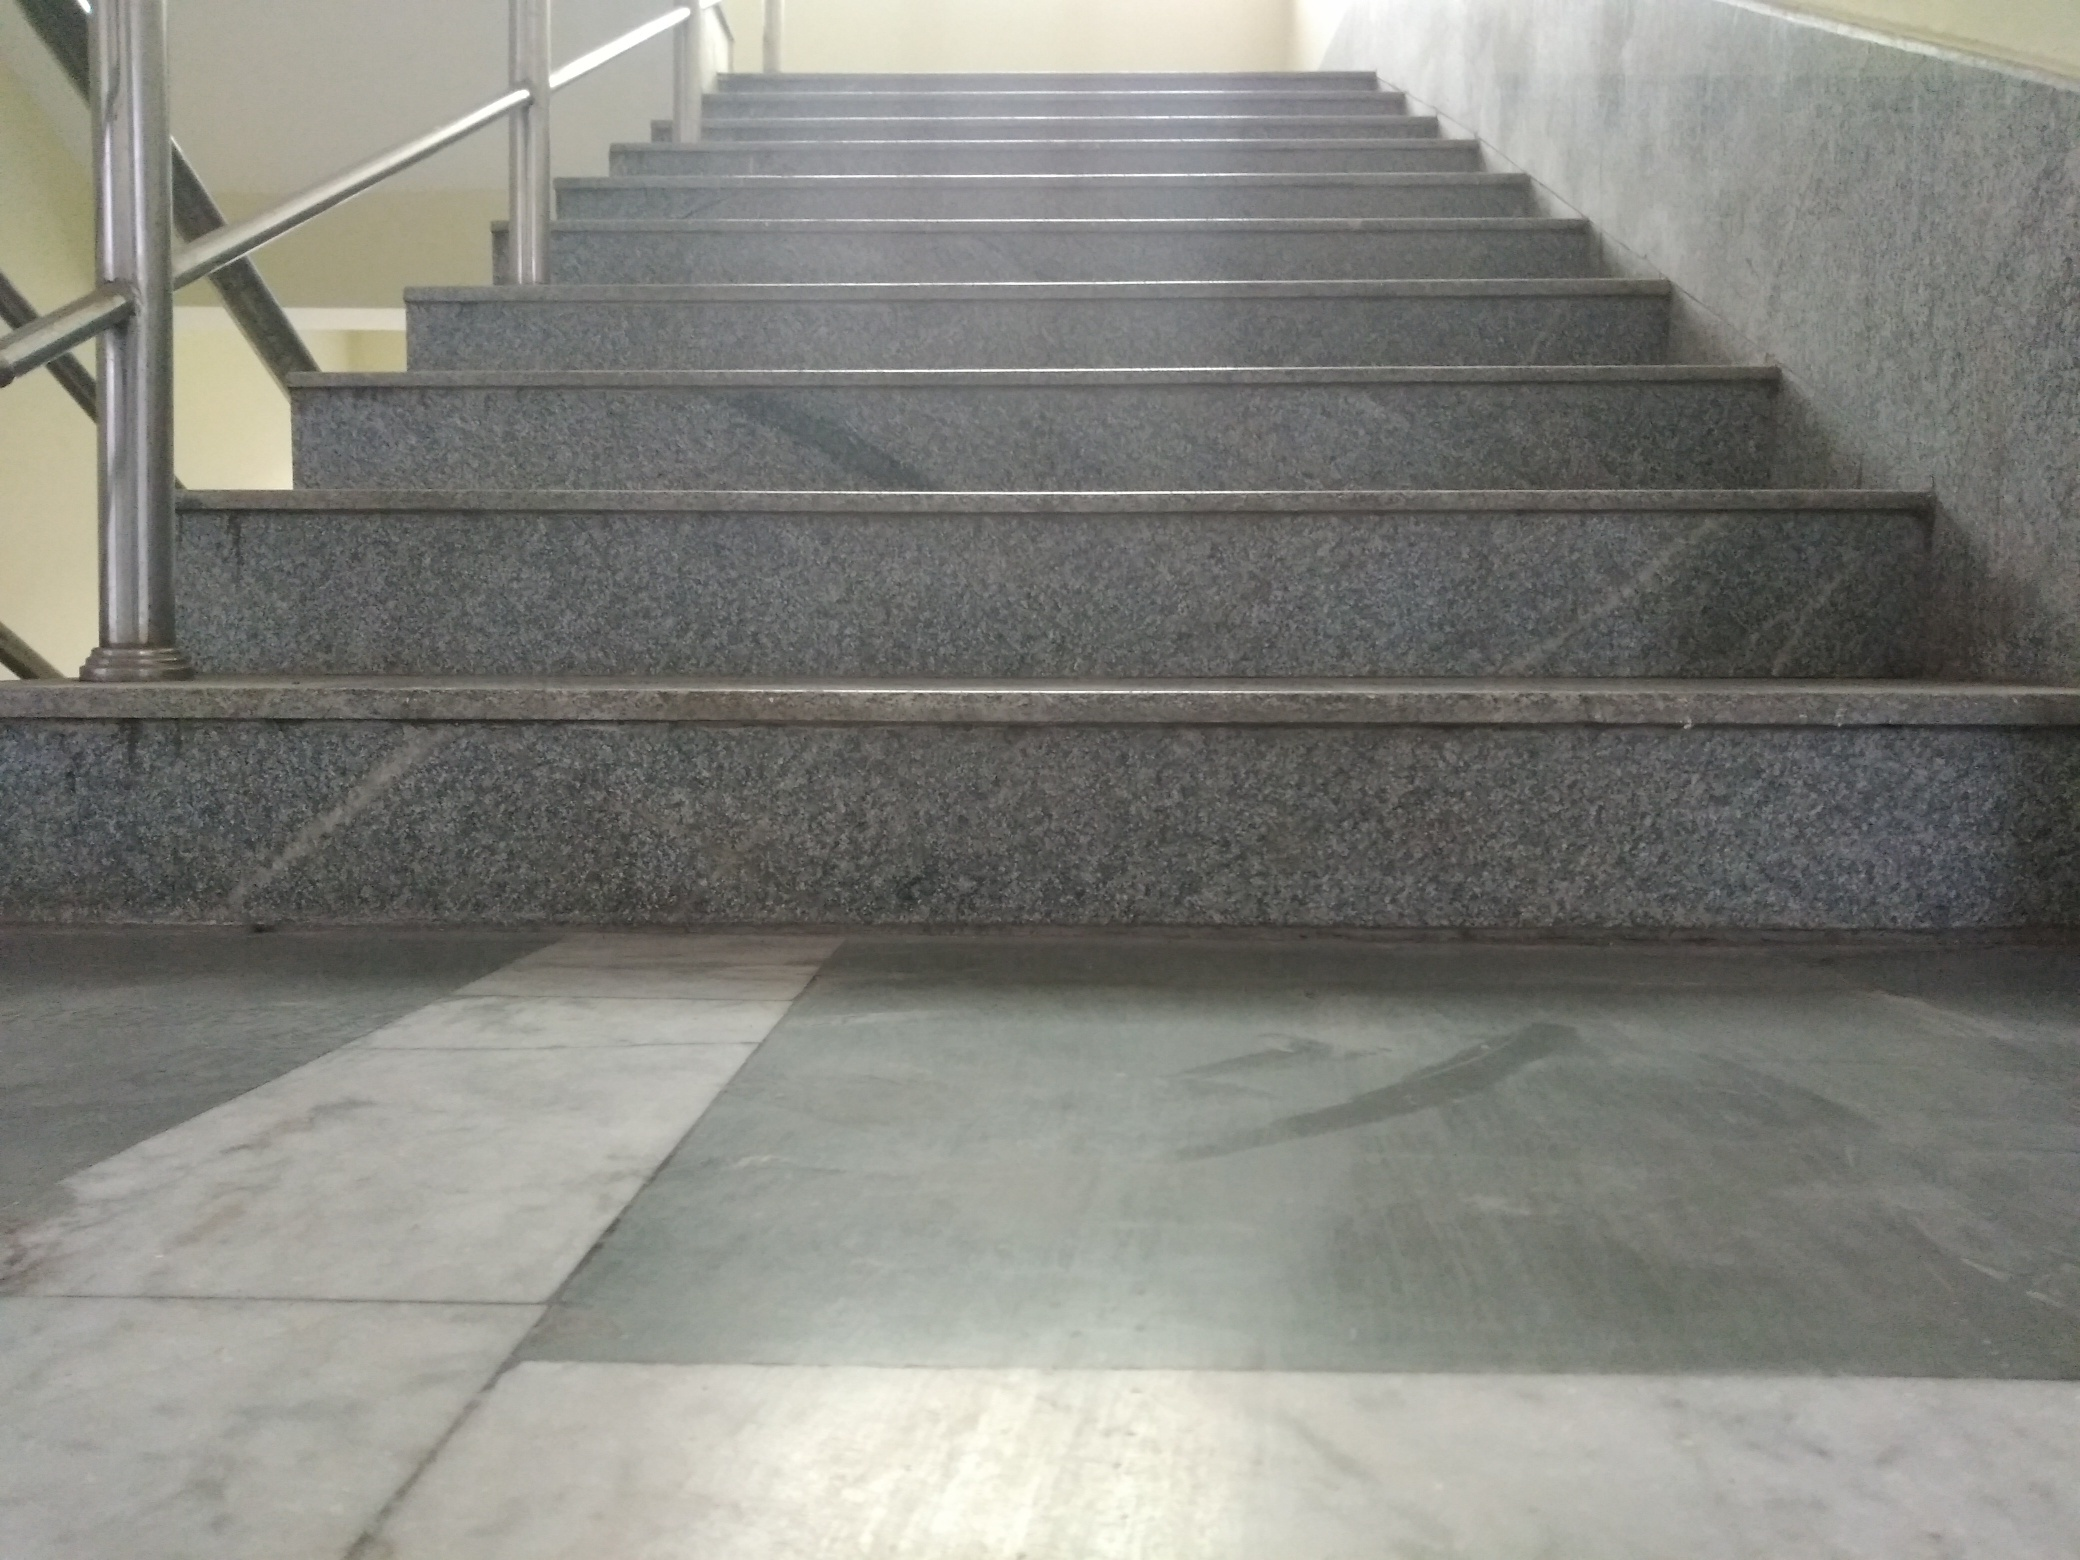stairs_up: (134, 75, 2080, 927)
